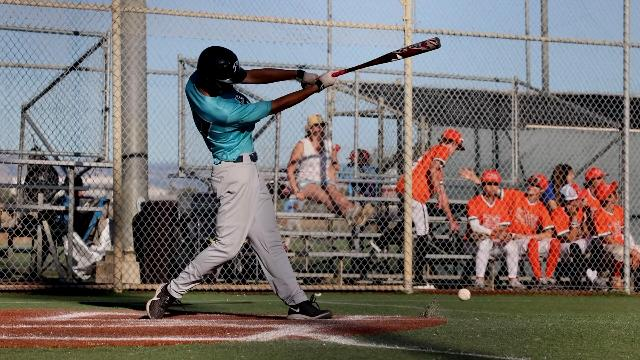ball: (456, 288, 472, 302)
bat: (332, 37, 442, 77)
